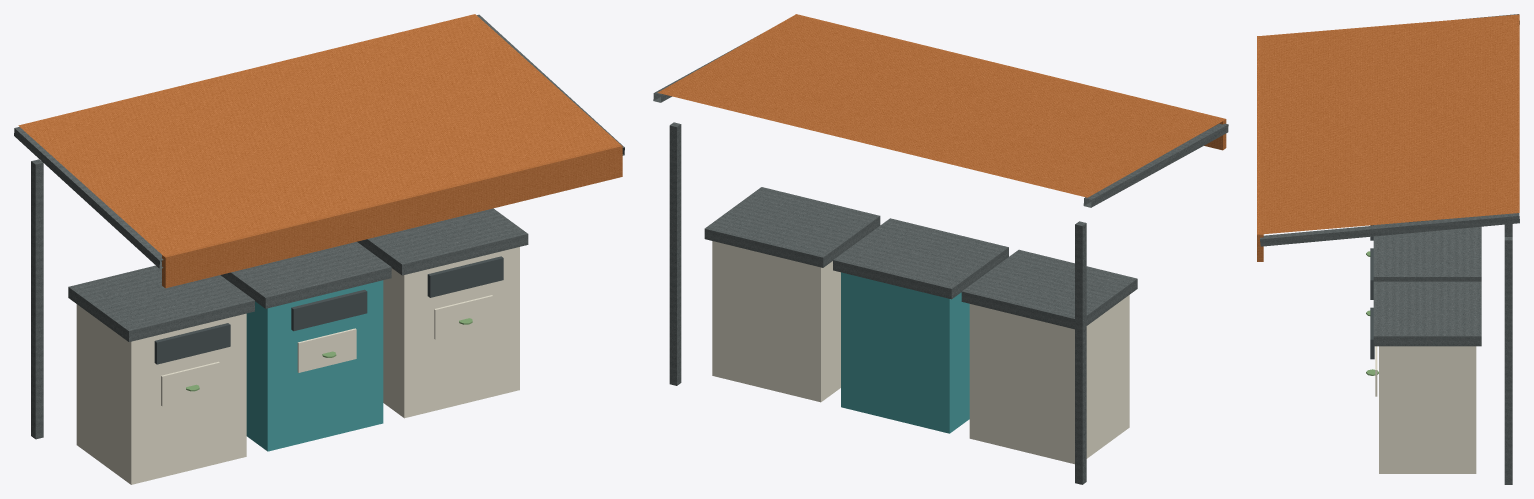
The model's file is tw_recycling_station.glb.
The picture shows the model from 3 angles, left to right: view 1: azimuth 30°, elevation 25°; view 2: azimuth 150°, elevation 25°; view 3: azimuth 270°, elevation 25°; orthographic projection. The views are drawn at different scales.
Parts seen in each view (by area): view 1: WovenAwning, PaintedCream, GalvanizedMetal, FictionalShopAccent, CharcoalRecess; view 2: WovenAwning, PaintedCream, GalvanizedMetal, FictionalShopAccent; view 3: WovenAwning, GalvanizedMetal, PaintedCream, CharcoalRecess.
Part boxes in pixels (<box>): WovenAwning: <box>18,14,622,288</box>; PaintedCream: <box>76,247,519,484</box>; GalvanizedMetal: <box>14,14,624,439</box>; FictionalShopAccent: <box>246,280,383,451</box>; CharcoalRecess: <box>154,256,503,364</box>; WovenAwning: <box>657,14,1226,197</box>; PaintedCream: <box>712,241,1129,464</box>; GalvanizedMetal: <box>653,34,1228,484</box>; FictionalShopAccent: <box>841,272,969,433</box>; WovenAwning: <box>1257,14,1519,261</box>; GalvanizedMetal: <box>1260,14,1519,484</box>; PaintedCream: <box>1375,346,1476,473</box>; CharcoalRecess: <box>1370,225,1374,359</box>.
Size of the model in its own units: 4.42 by 2.82 by 2.43.
6 materials, 2 textured.
